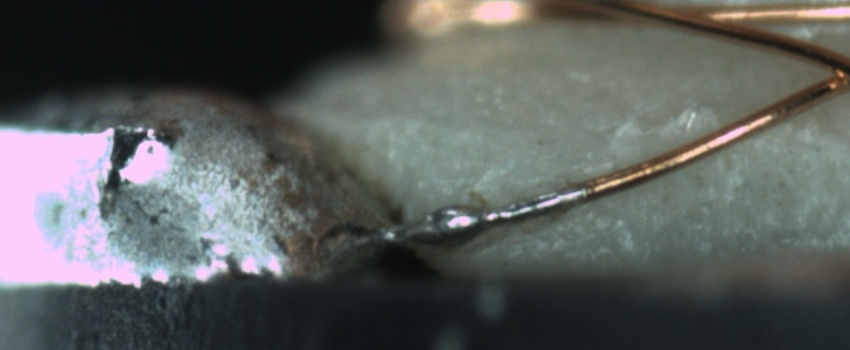CL: (801, 42, 849, 101)
DL: (428, 162, 604, 193)
TB: (414, 203, 486, 247)
TS: (389, 182, 589, 245)
TTCW: (377, 161, 645, 248)
